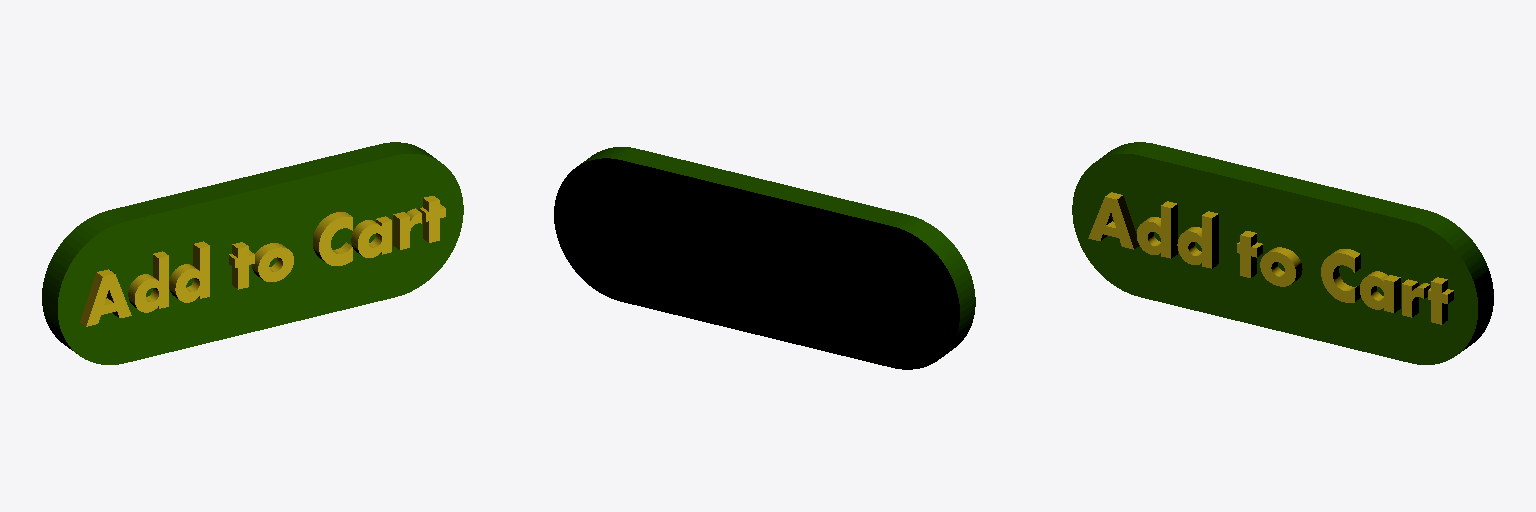
3 renders of one model, left to right at view 1: azimuth 30°, elevation 25°; view 2: azimuth 150°, elevation 25°; view 3: azimuth 330°, elevation 25°, orthographic.
Parts seen in each view (by area): view 1: MoText; view 2: MoText; view 3: MoText.
Part boxes in pixels (x1,y1,x2,y2): MoText: (42, 142, 463, 364); MoText: (554, 147, 975, 369); MoText: (1072, 142, 1493, 364).
Bounding box in the file's own units: 300 × 100 × 28.12.
1 materials, 1 textured.